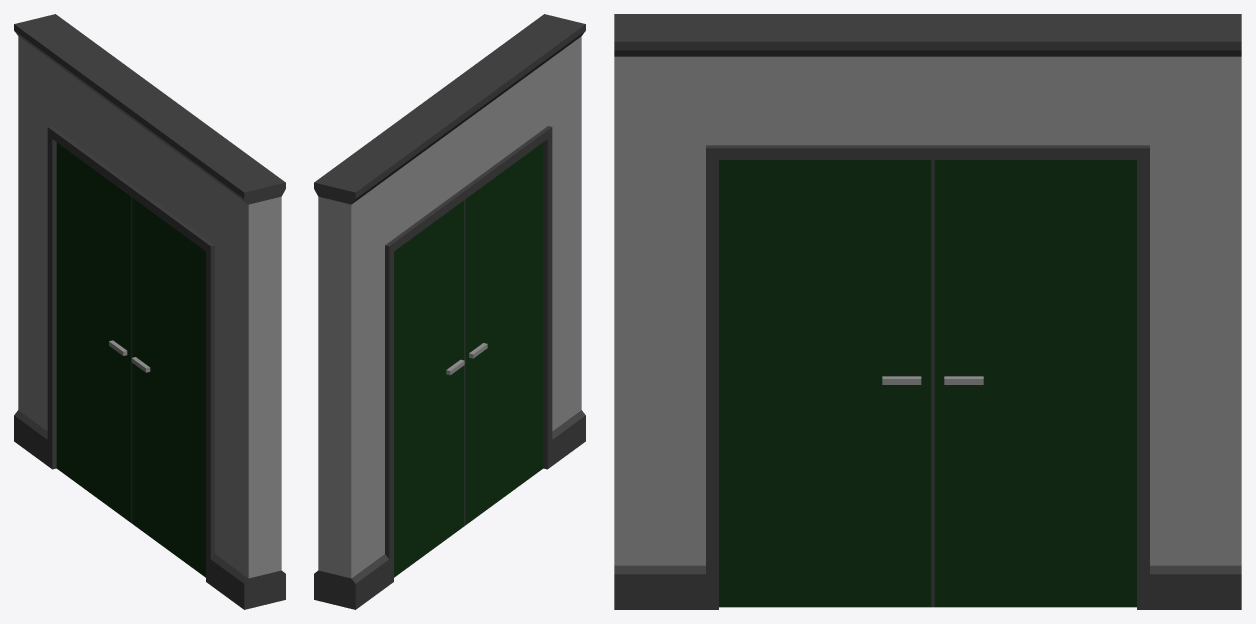
Rendered from Neo_WallDoubleDoors_01_snaps001.fbx.
3 views of the same model, side by side, from view 1: azimuth 30°, elevation 25°; view 2: azimuth 150°, elevation 25°; view 3: azimuth 270°, elevation 25° (orthographic). The views are drawn at different scales.
Parts seen in each view (by area): view 1: Neo_WallDoubleDoors_01_snaps001; view 2: Neo_WallDoubleDoors_01_snaps001; view 3: Neo_WallDoubleDoors_01_snaps001.
Part boxes in pixels (x1,y1,x2,y2): Neo_WallDoubleDoors_01_snaps001: [14, 14, 285, 609]; Neo_WallDoubleDoors_01_snaps001: [314, 14, 585, 609]; Neo_WallDoubleDoors_01_snaps001: [614, 14, 1241, 609].
Size of the model in its own units: 31.25 by 300 by 300.
